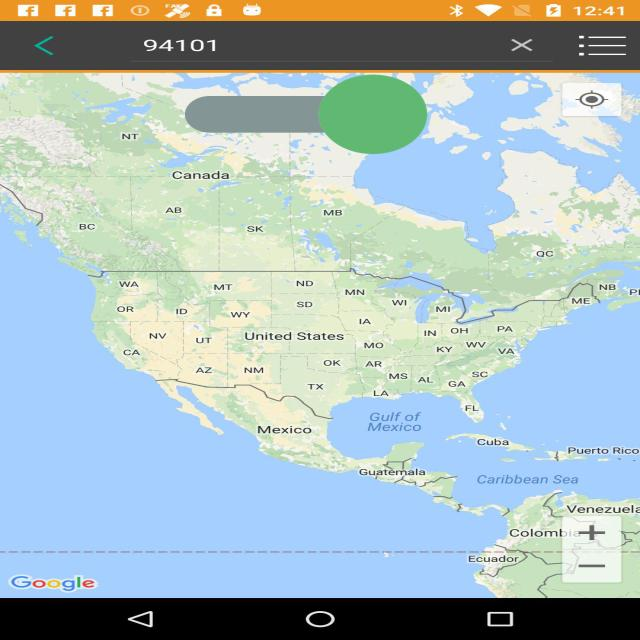social proof: (185, 26, 427, 203)
